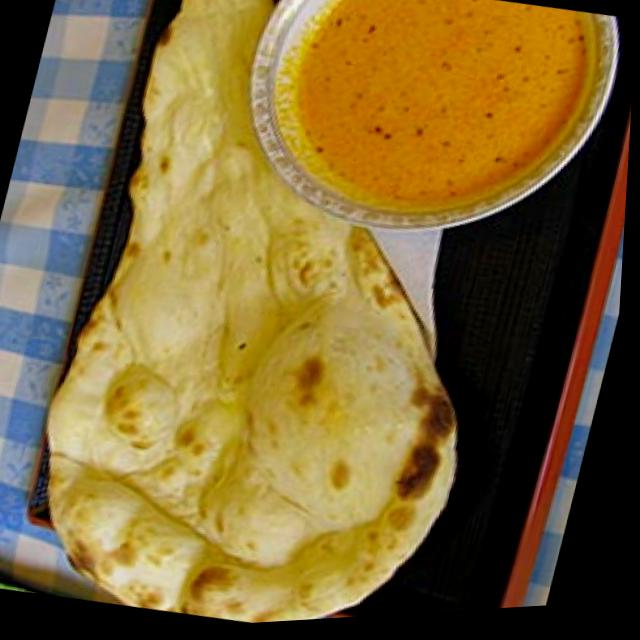牛肉菜式: (212, 0, 640, 280)
